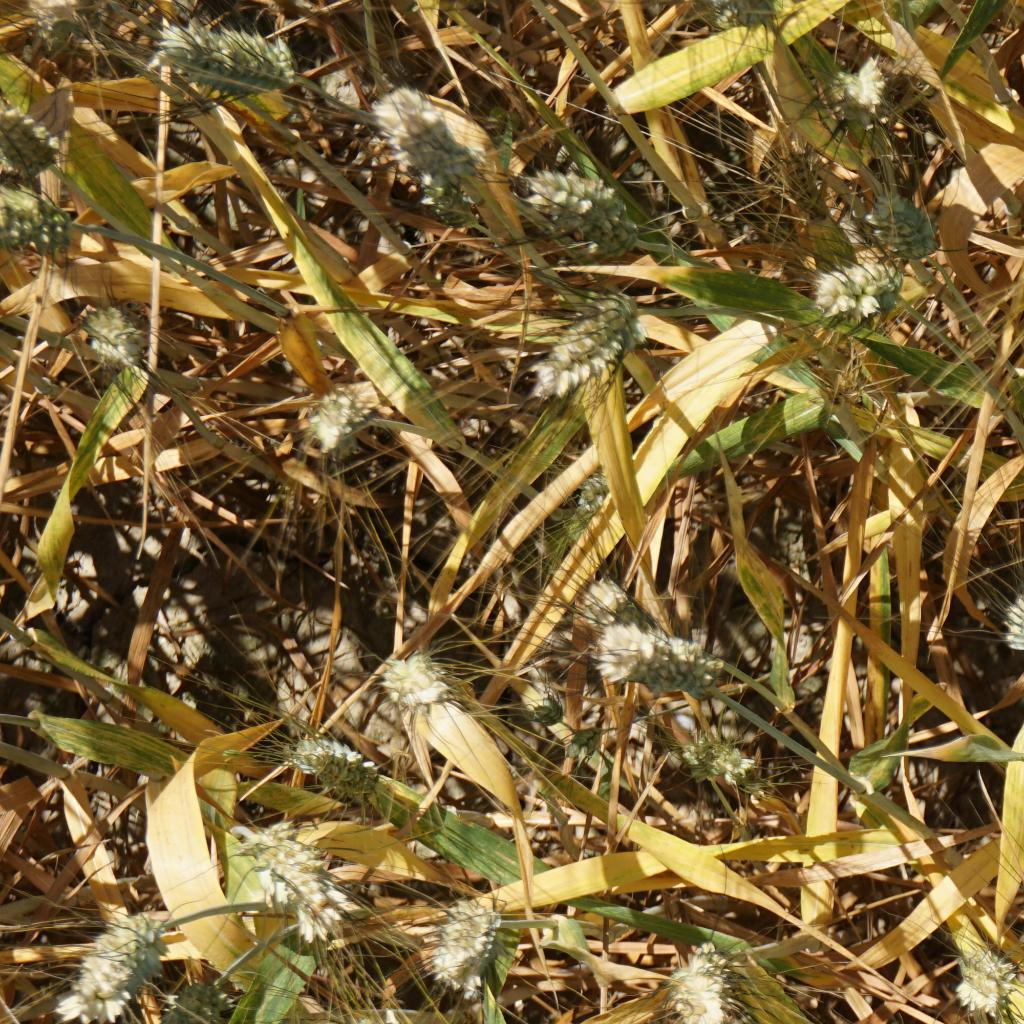0-0: (520, 288, 662, 392), (155, 27, 311, 98), (524, 167, 640, 248), (416, 886, 506, 989), (67, 912, 147, 1024), (259, 839, 352, 932), (375, 95, 482, 172), (652, 931, 739, 1024), (291, 382, 388, 465), (816, 254, 917, 332), (604, 623, 711, 685), (817, 55, 896, 126), (873, 187, 944, 265), (0, 106, 80, 175), (71, 298, 152, 364), (0, 196, 79, 261), (291, 733, 376, 793), (684, 719, 746, 790), (956, 947, 1020, 1015), (384, 654, 463, 702), (577, 577, 638, 635), (32, 0, 85, 58), (153, 987, 228, 1024), (570, 472, 612, 535), (998, 563, 1024, 659), (318, 1005, 399, 1024)
